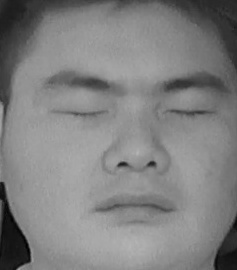blink: (49, 92, 109, 134), (164, 90, 221, 130)
mouth: (89, 181, 181, 233)
